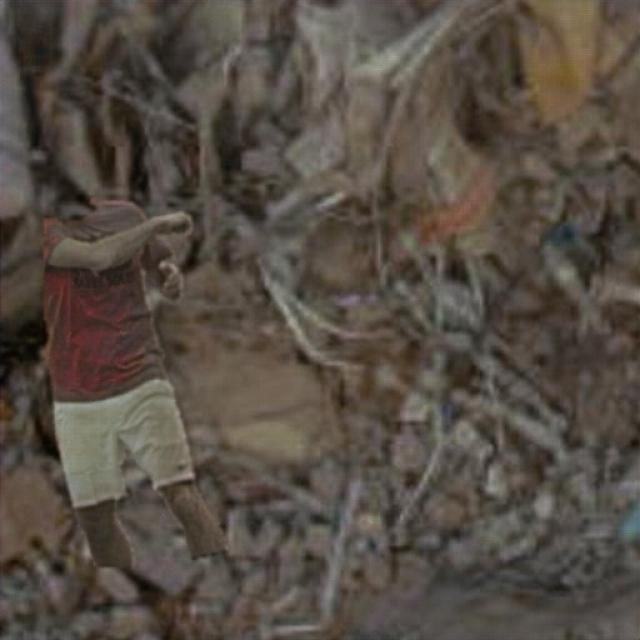Person in Rubble: (44, 198, 226, 566)
